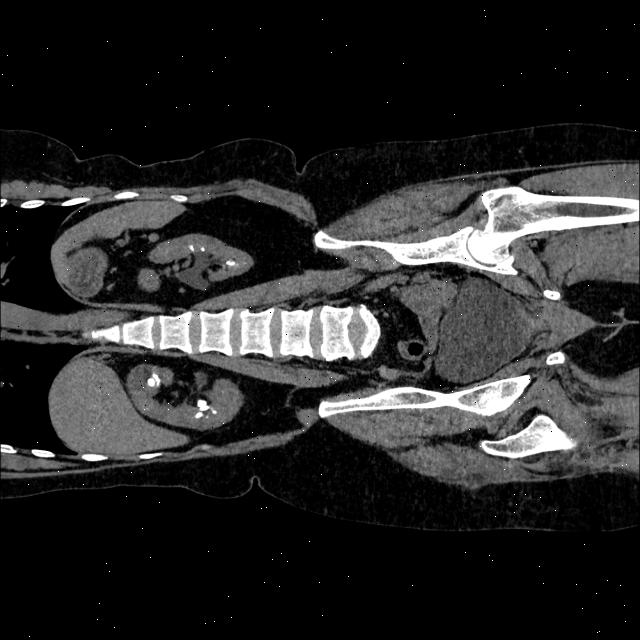kidneystone: (147, 372, 161, 386), (196, 399, 208, 408), (194, 410, 202, 418), (225, 259, 235, 265), (187, 244, 194, 251), (211, 409, 217, 414), (201, 247, 205, 251)
